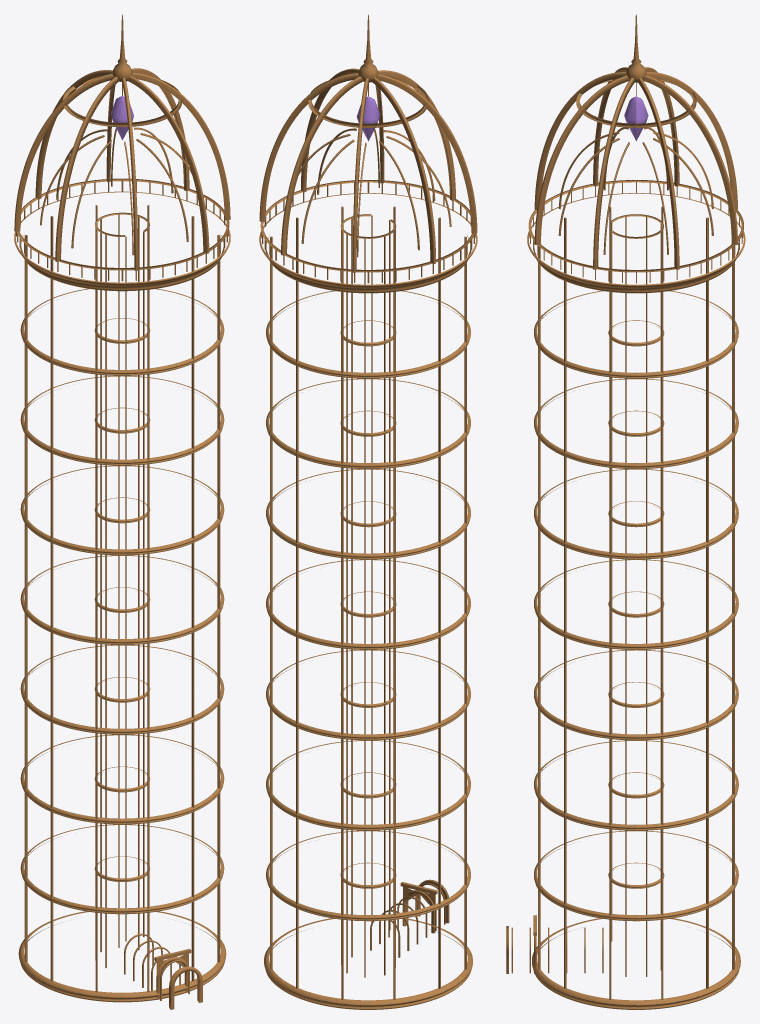
The model's file is kt_frame.glb.
3 views of the same model, side by side, from view 1: azimuth 30°, elevation 25°; view 2: azimuth 150°, elevation 25°; view 3: azimuth 270°, elevation 25° (orthographic).
Visible parts, largest first — view 1: kt_frame; view 2: kt_frame; view 3: kt_frame.
Boxes of the visible parts, x1=… form: kt_frame: x1=14, y1=14, x2=230, y2=1009; kt_frame: x1=259, y1=14, x2=477, y2=1009; kt_frame: x1=506, y1=14, x2=745, y2=1009.
Bounding box in the file's own units: 19.7 × 94.85 × 21.57.
2 materials, 1 textured.
